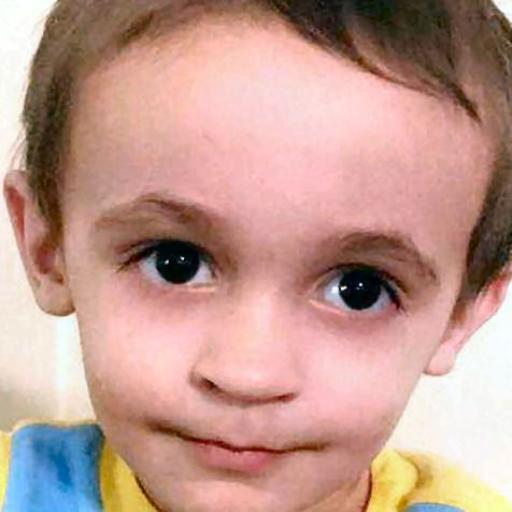Autism: (13, 8, 501, 512)
